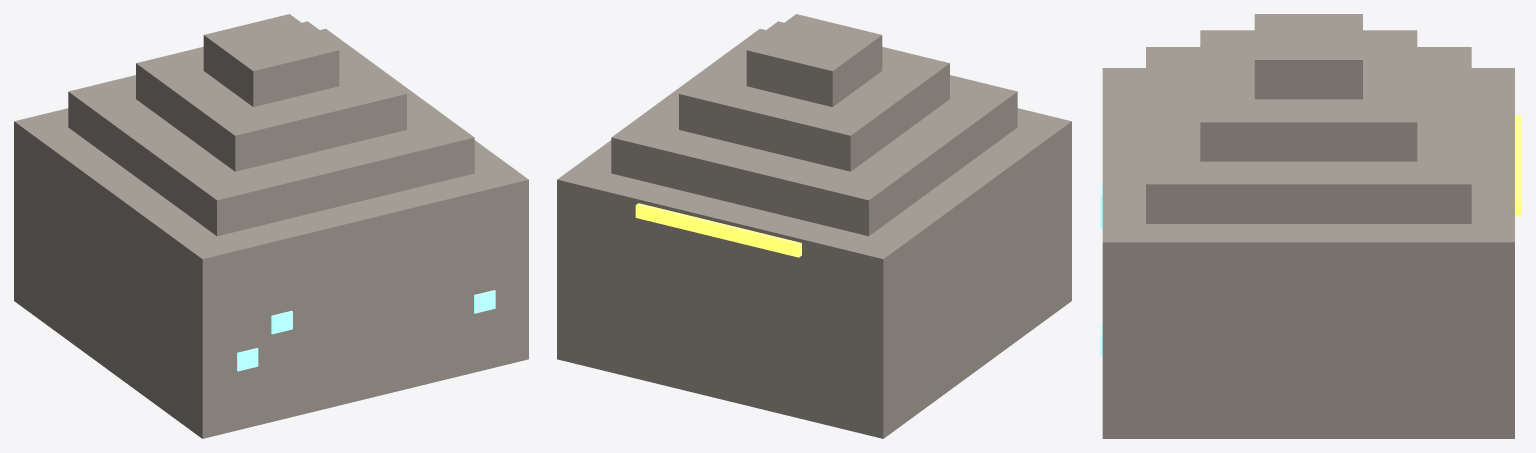
File: exchange_lod1-BweicOPm.glb
The picture shows the model from 3 angles, left to right: view 1: azimuth 30°, elevation 25°; view 2: azimuth 150°, elevation 25°; view 3: azimuth 270°, elevation 25°; orthographic projection. The views are drawn at different scales.
Visible parts, largest first — view 1: body, window; view 2: body, sign; view 3: body, sign.
Part boxes in pixels (x1,y1,x2,y2): body: (14,14,528,438); window: (237,290,495,371); body: (557,14,1071,438); sign: (635,203,801,257); body: (1102,14,1514,438); sign: (1515,115,1521,216).
Bounding box in the file's own units: 0.76 × 0.64 × 0.776.
